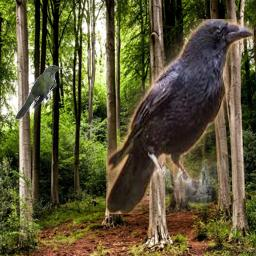Crow: (106, 19, 254, 214)
Cuckoo: (13, 65, 63, 120)
